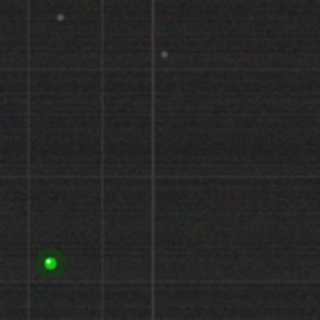green_normal: (42, 255, 58, 271)
